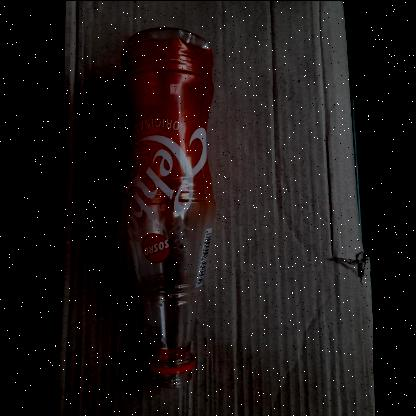Plastic Bottle: (92, 22, 233, 412)
